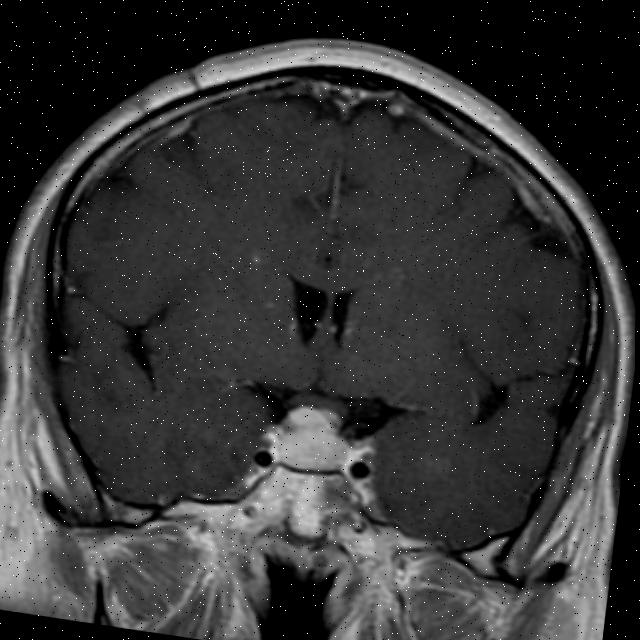Pituitary: (270, 399, 360, 479)
